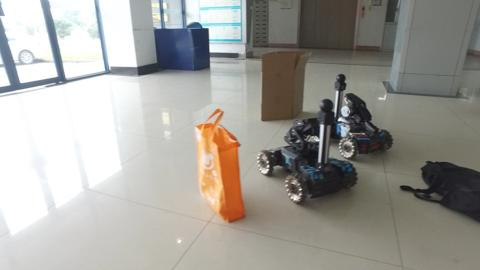bag: (193, 106, 246, 219), (418, 154, 479, 222)
box: (258, 50, 304, 120)
chariot: (254, 100, 362, 204), (329, 66, 392, 155)
